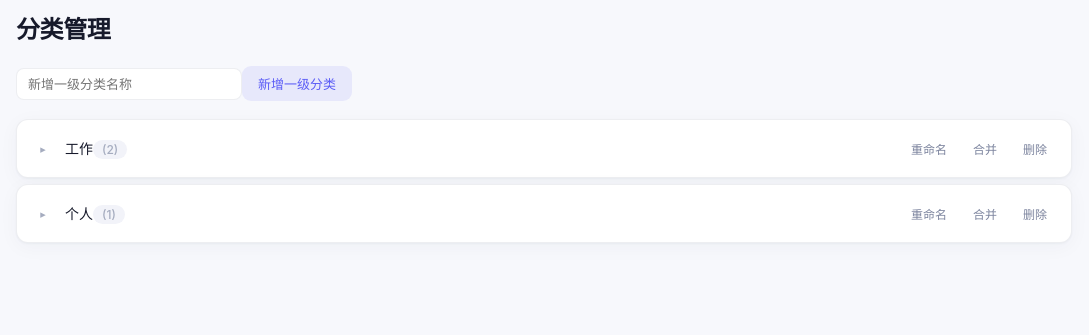
Scenario: CategoryManager › expands root to show children and add-child input
The width and height of the screenshot is (1089, 335).
Check: the text "工作" is shown, box top-left (65, 140), bottom-right (93, 157)
What coordinates should you click on to do the following:
click the button "▸" next to "工作"
I would click on:
 (43, 149)
Its box is top-left (31, 137), bottom-right (55, 161).
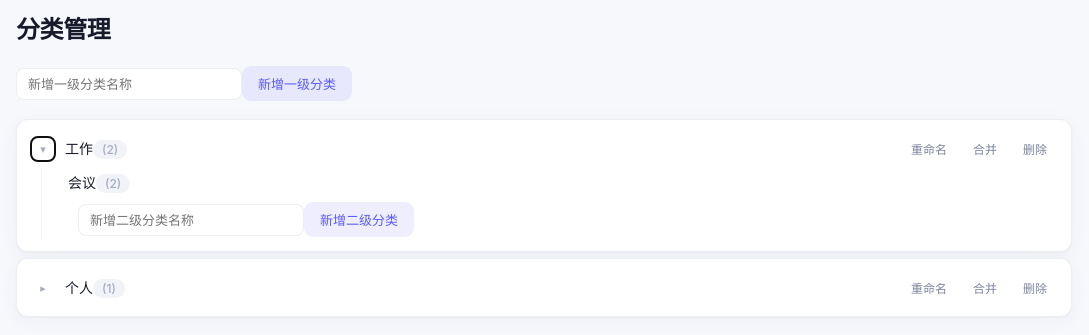
Check: the text "会议" is shown, box top-left (68, 174), bottom-right (96, 191)
Check: the button "新增二级分类" is shown, box top-left (304, 202), bottom-right (414, 237)
